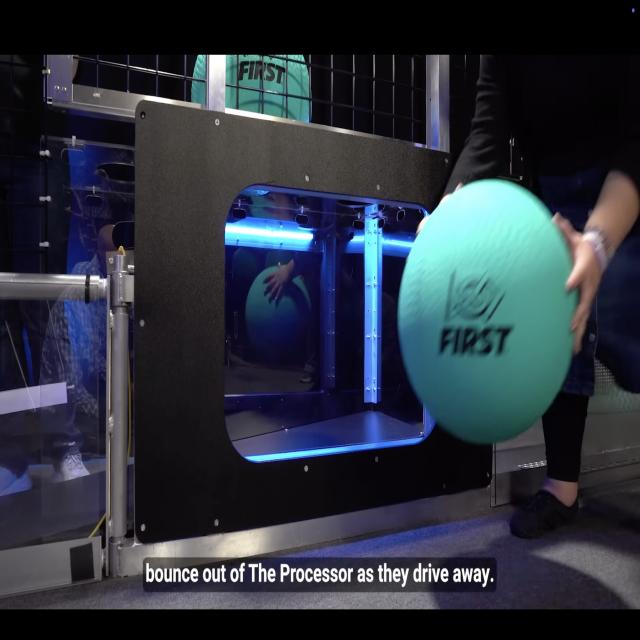algae: (396, 176, 584, 449), (188, 45, 318, 128)
